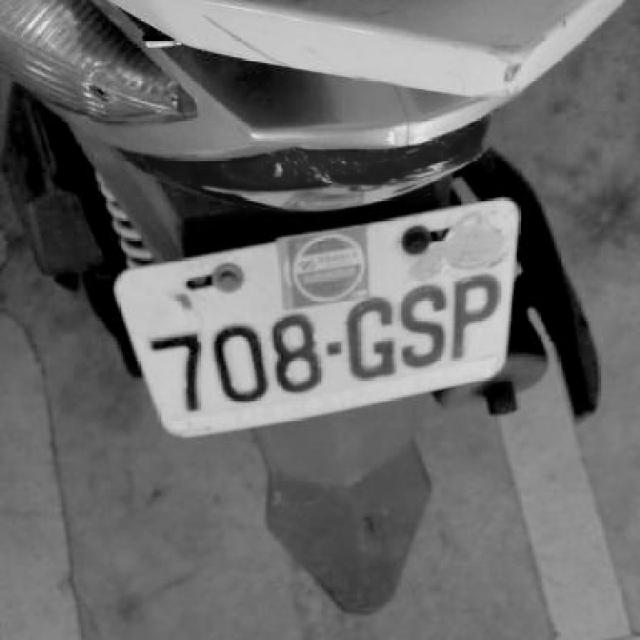-: (326, 338, 343, 358)
0: (211, 319, 271, 406)
7: (150, 325, 202, 406)
8: (269, 311, 323, 397)
G: (346, 291, 396, 383)
P: (449, 270, 503, 358)
S: (395, 280, 448, 369)
